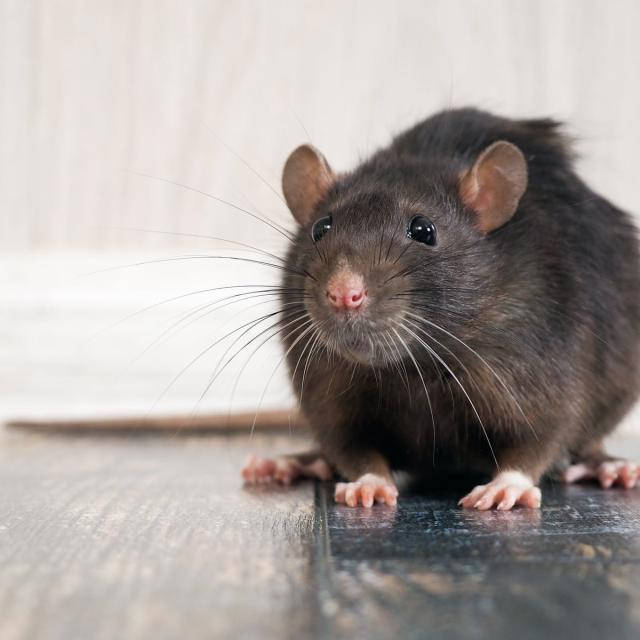rat: (244, 108, 639, 510)
